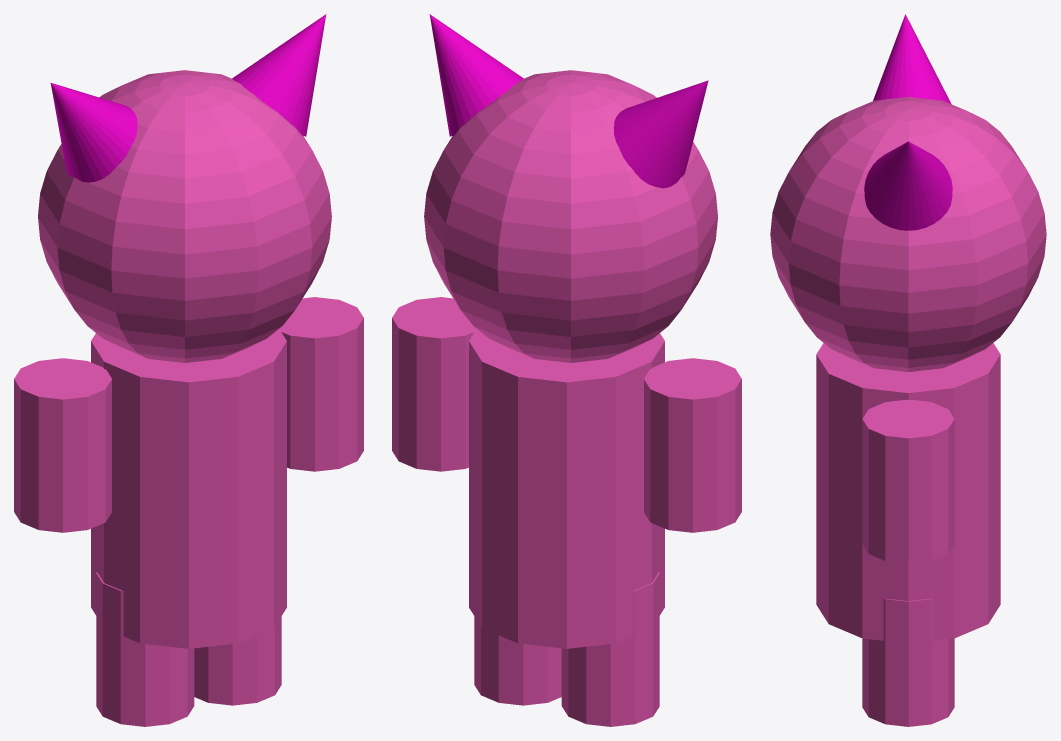
File: personagem.fbx
The picture shows the model from 3 angles, left to right: view 1: azimuth 30°, elevation 25°; view 2: azimuth 150°, elevation 25°; view 3: azimuth 270°, elevation 25°; orthographic projection. The views are drawn at different scales.
Visible parts, largest first — view 1: Sphere, Cylinder, Cylinder.002, Cylinder.003, Cylinder.004, Cone.001, Cylinder.001, Cone; view 2: Sphere, Cylinder, Cylinder.002, Cylinder.003, Cylinder.004, Cone.001, Cylinder.001, Cone; view 3: Sphere, Cylinder, Cylinder.003, Cylinder.001, Cone, Cone.001.
Part boxes in pixels (<box>): Sphere: <box>38,70,331,362</box>; Cylinder: <box>91,329,286,648</box>; Cylinder.002: <box>14,358,111,532</box>; Cylinder.003: <box>279,297,363,471</box>; Cylinder.004: <box>96,572,194,726</box>; Cone.001: <box>50,83,137,182</box>; Cylinder.001: <box>194,616,281,705</box>; Cone: <box>232,14,326,136</box>; Sphere: <box>424,70,717,362</box>; Cylinder: <box>469,329,664,648</box>; Cylinder.002: <box>644,358,741,532</box>; Cylinder.003: <box>392,297,476,471</box>; Cylinder.004: <box>561,572,659,726</box>; Cone.001: <box>613,80,708,188</box>; Cylinder.001: <box>474,616,561,705</box>; Cone: <box>429,14,523,136</box>; Sphere: <box>770,97,1046,371</box>; Cylinder: <box>816,343,1000,640</box>; Cylinder.003: <box>862,400,954,563</box>; Cylinder.001: <box>862,598,954,726</box>; Cone: <box>864,141,952,230</box>; Cone.001: <box>873,14,951,104</box>.
Size of the model in its own units: 428 by 788 by 324.
